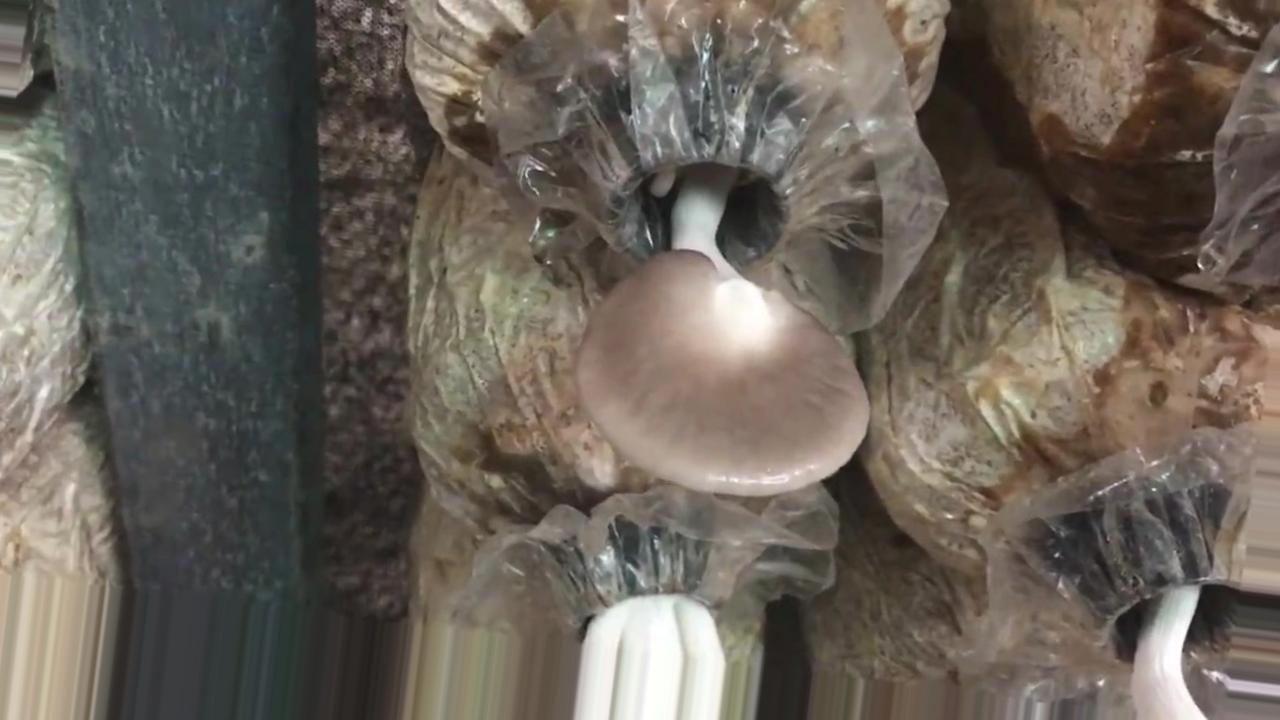nam: (570, 96, 874, 499)
